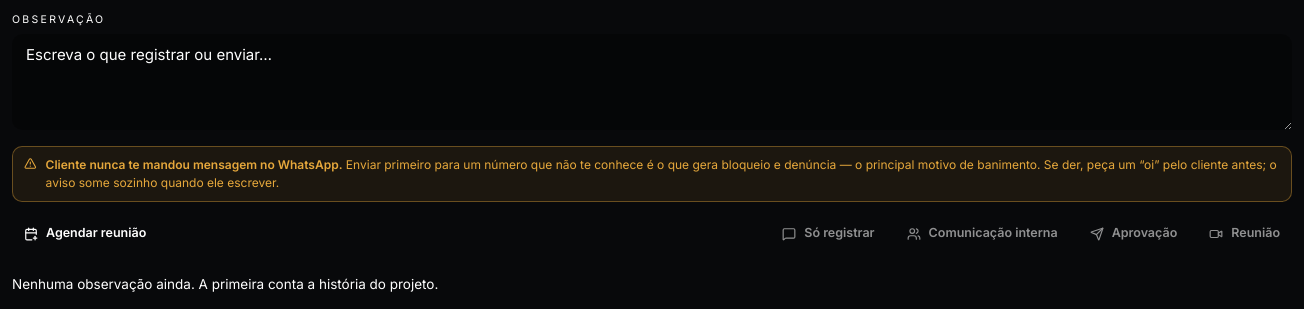
Scenario: ProjectNotesSection › avisa quando o cliente nunca escreveu — sem bloquear o envio
Expected: the text "Cliente nunca te mandou mensagem no WhatsApp." is shown, [46,157,342,172]
# O aviso é aviso: com texto escrito, a Aprovação continua clicável.
In the text box labelled "Observação": coordinates (652, 82) [12,34,1292,130], type "aprova?"
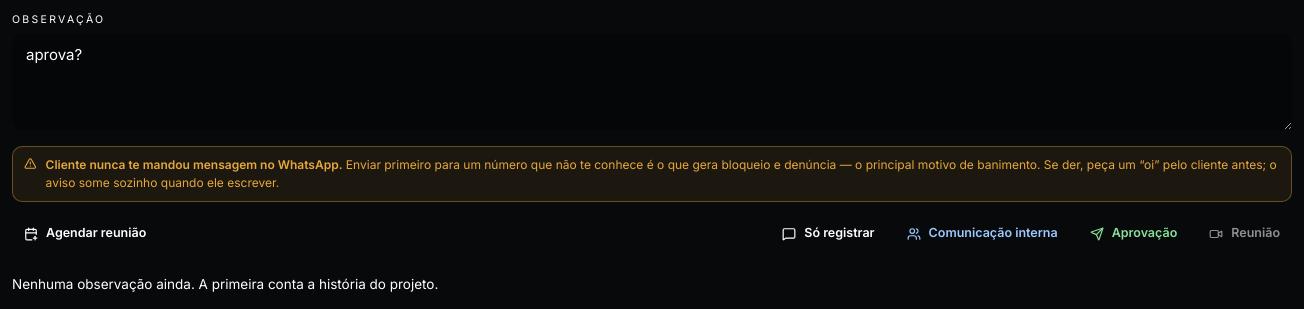
Result: the button "Aprovação" is enabled at [1078,218,1189,250]
